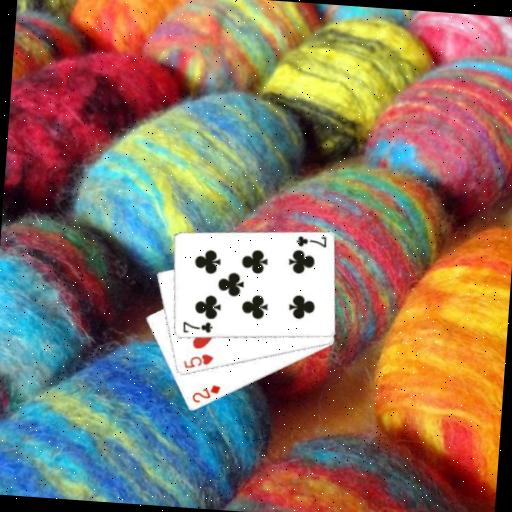2D: (189, 381, 223, 407)
5H: (180, 349, 215, 372)
7C: (293, 232, 329, 251), (179, 317, 214, 336)
